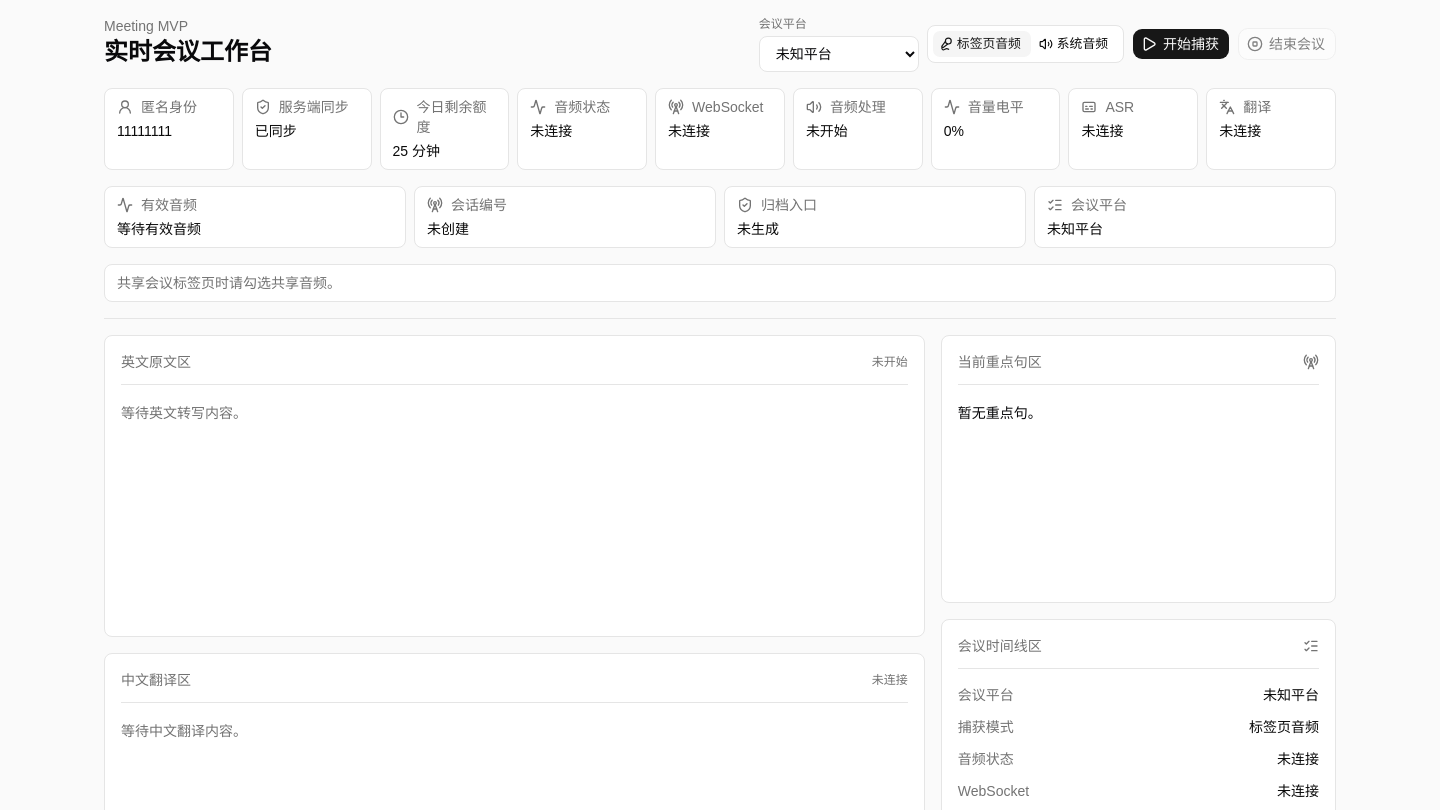
App › captures display audio, starts websocket, and shows audio processing state
Click the button "开始捕获". click: (1181, 44)
box: [1132,28,1230,60]
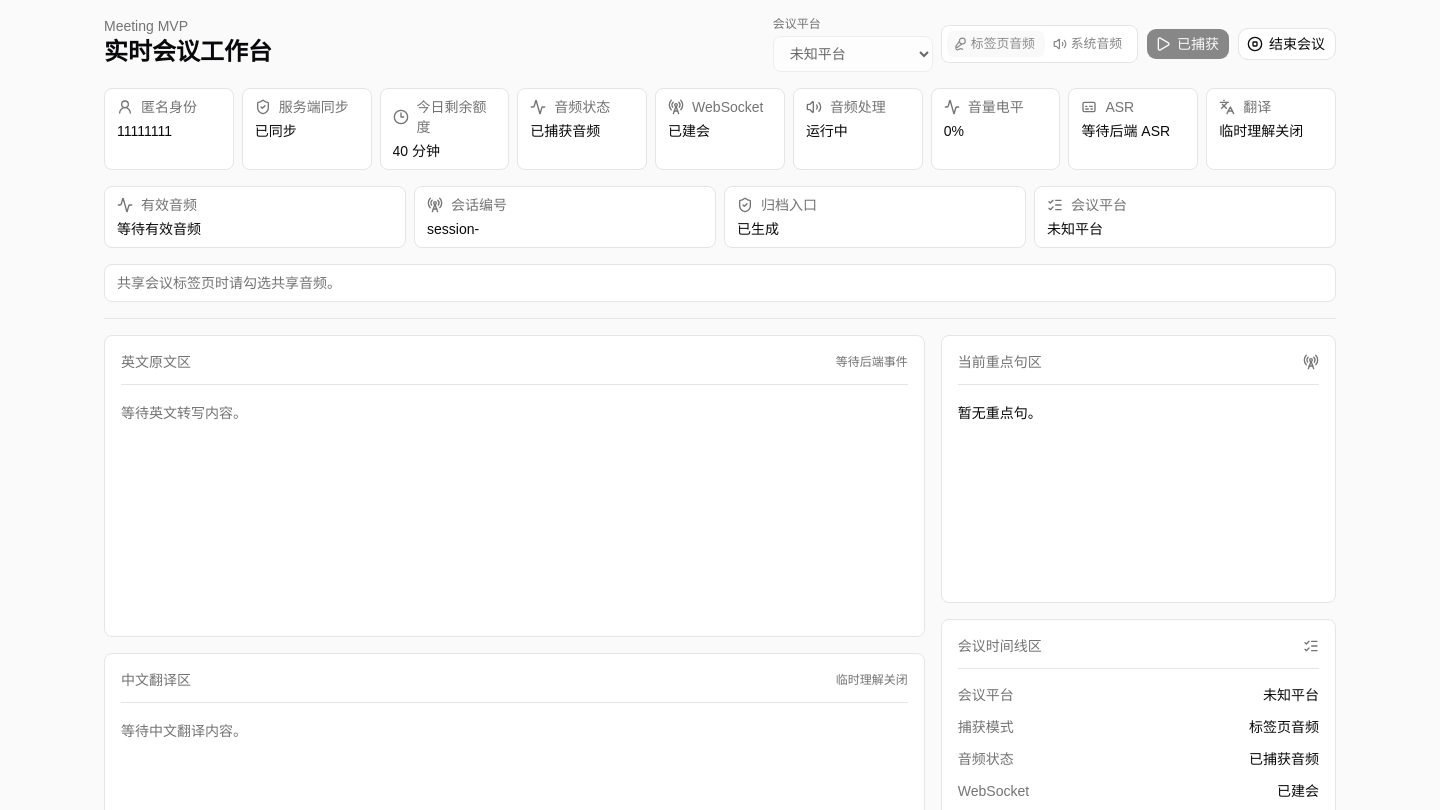
Expected: the text "已建会" next to "运行中" is shown, [668,123,710,139]
Expected: the text "运行中" is shown, [806,123,848,139]
Expected: the button "已捕获" is disabled, [1146,28,1230,60]
